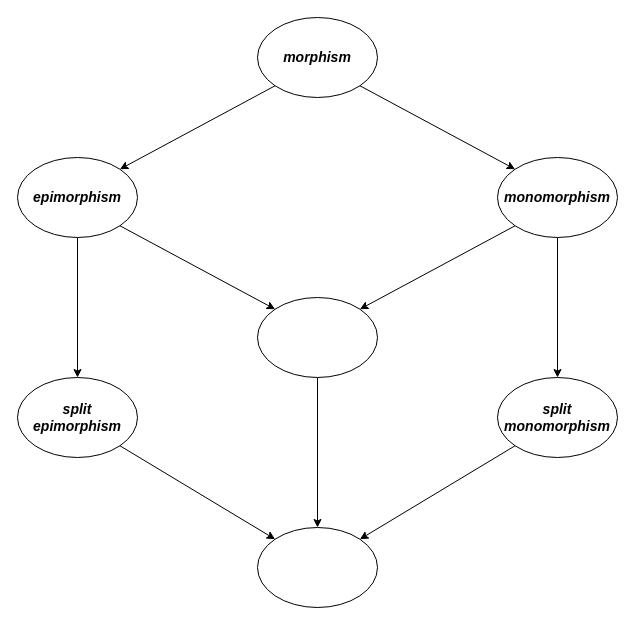
The diagram is 635 pixels wide and 625 high, and some of its shapes have lost their labels. The centre of each missing label's shape, as x and y in pixels:
bimorphism: the point at 317,337
isomorphism: the point at 317,567
